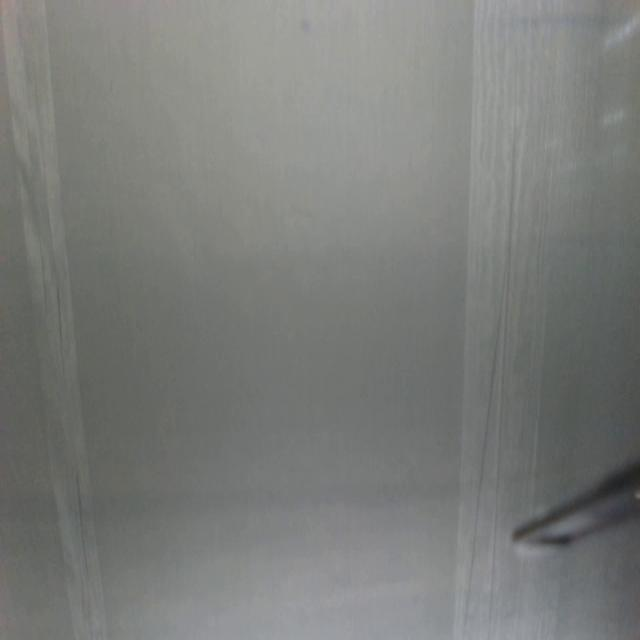crease: (0, 0, 111, 640), (456, 0, 551, 507)
